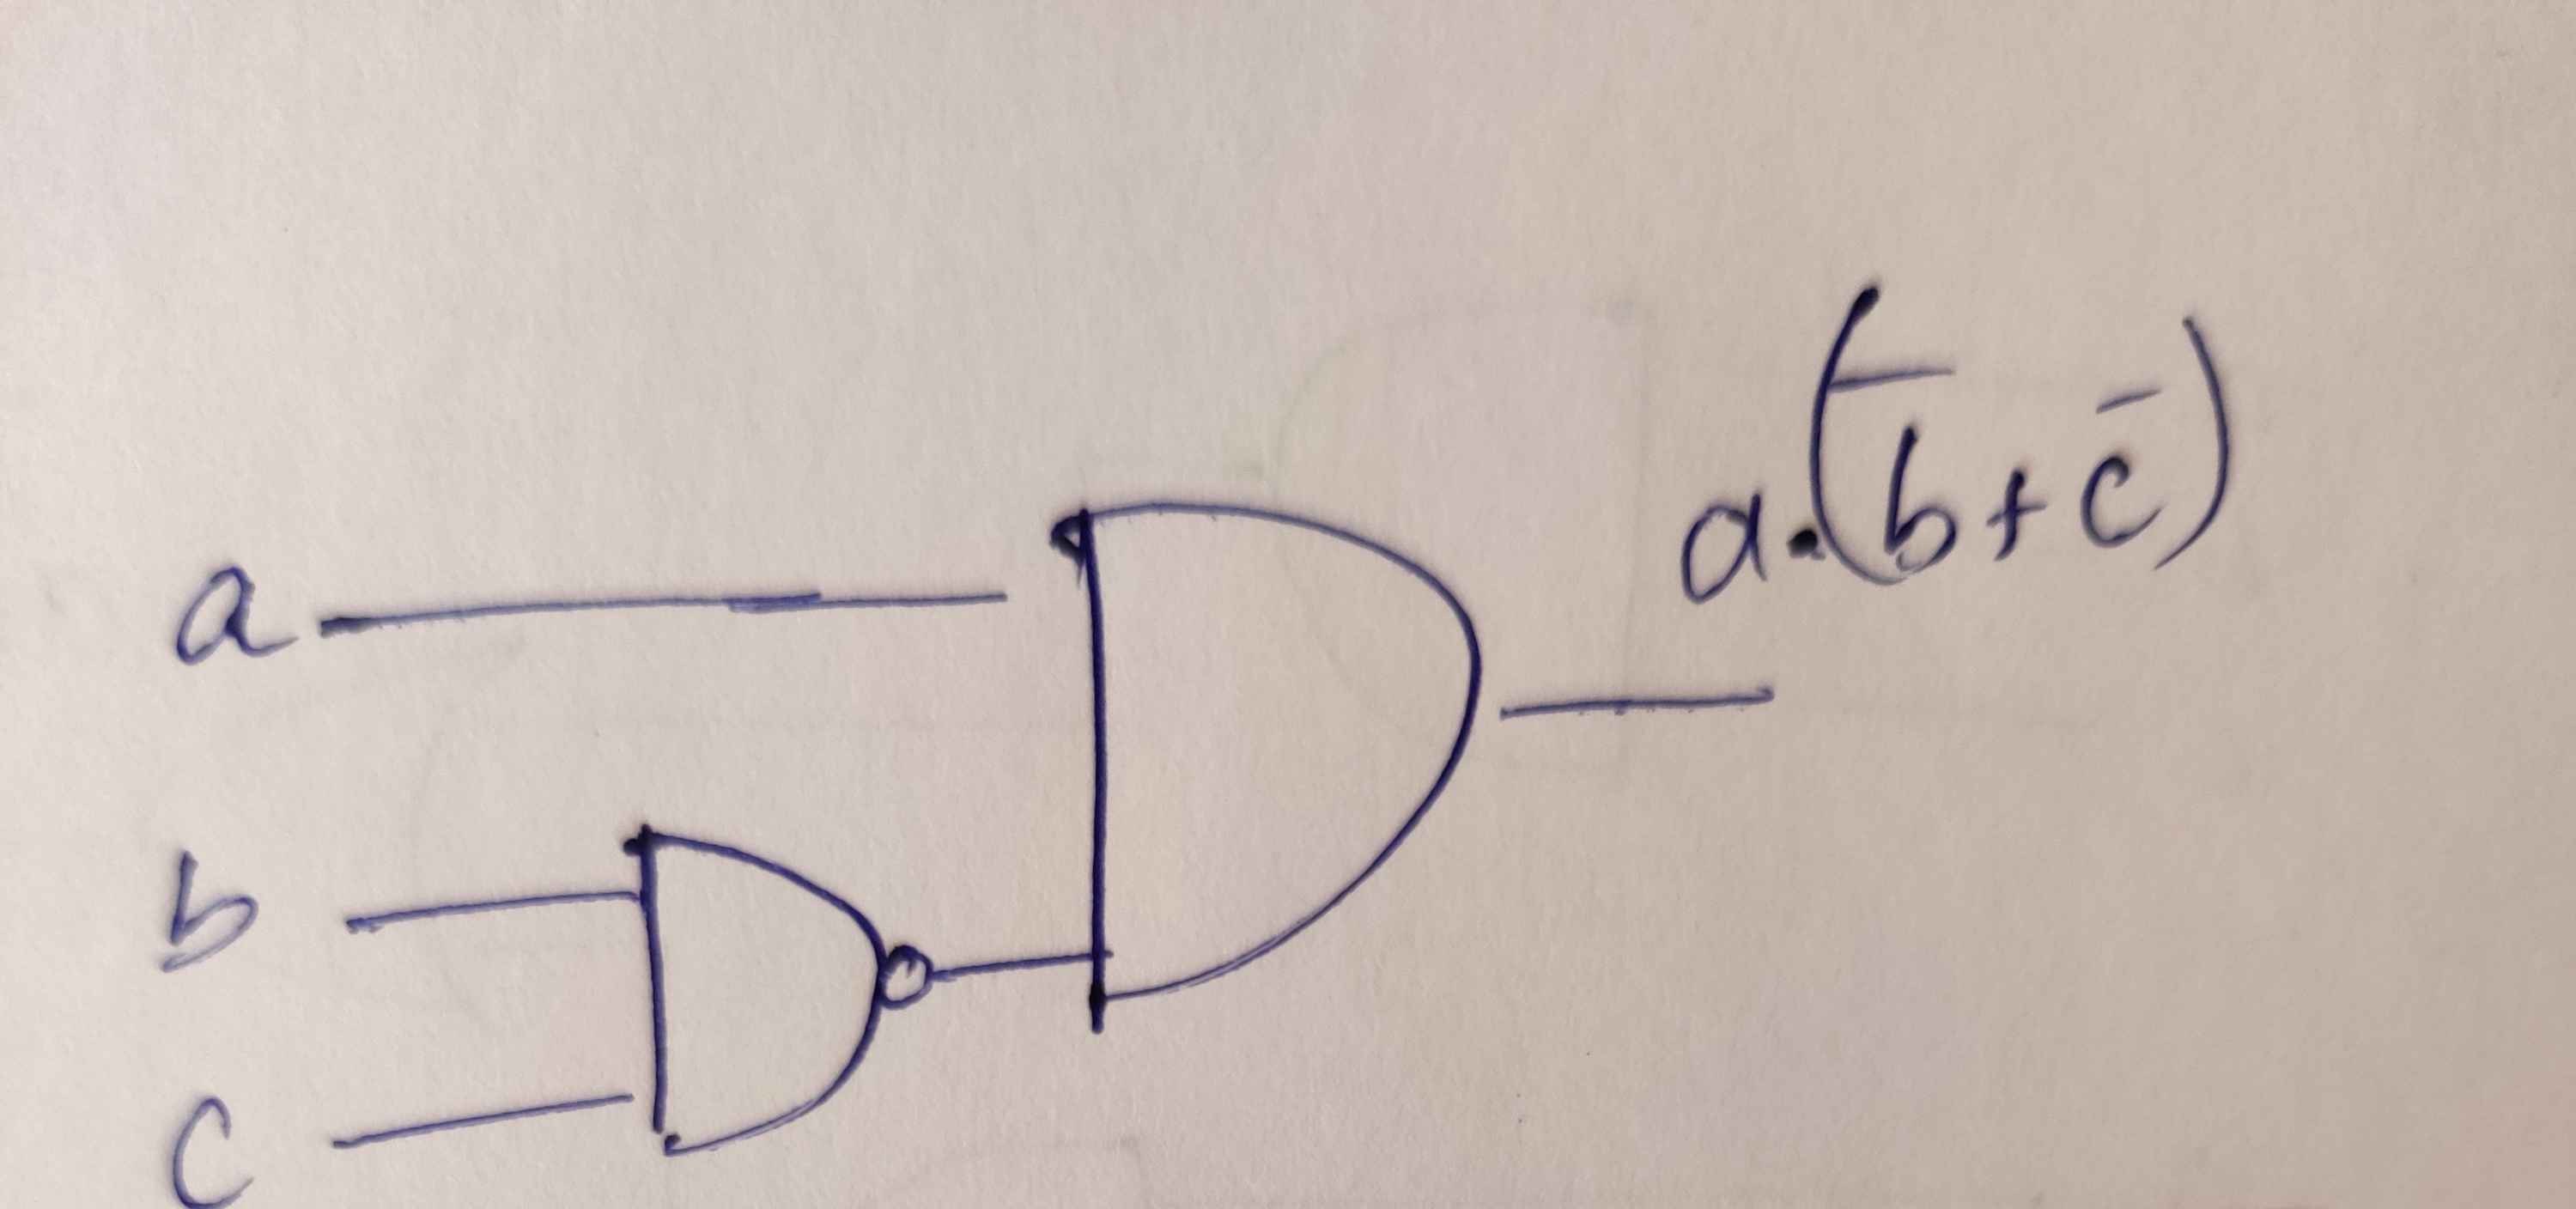and: (989, 421, 1608, 1033)
nand: (540, 769, 982, 1193)
